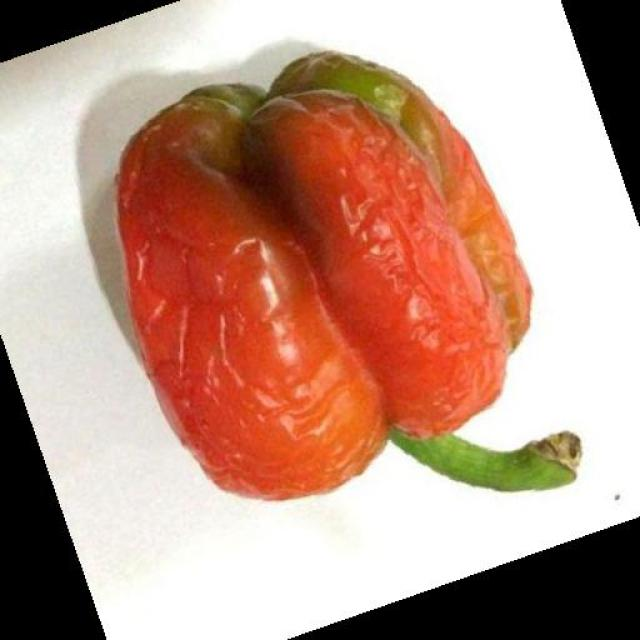Stale_Capsicum: (107, 96, 545, 502)
